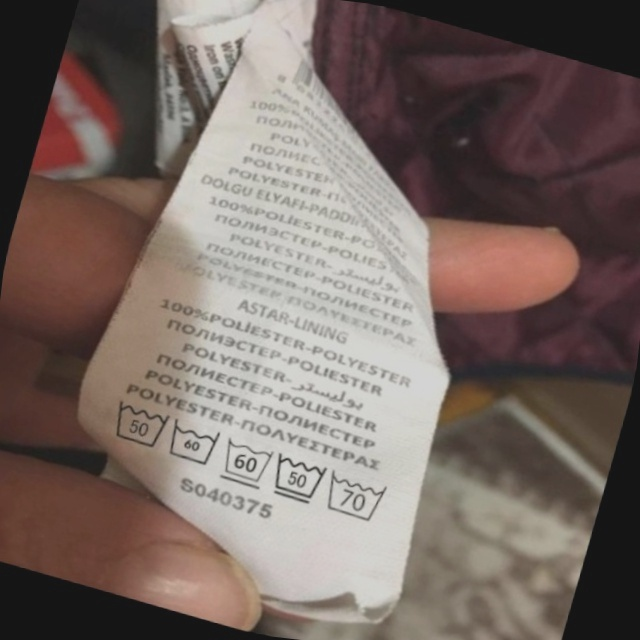50C: (101, 389, 179, 458), (263, 446, 335, 513)
60C: (214, 430, 282, 495), (160, 412, 229, 475)
70C: (319, 465, 397, 530)
